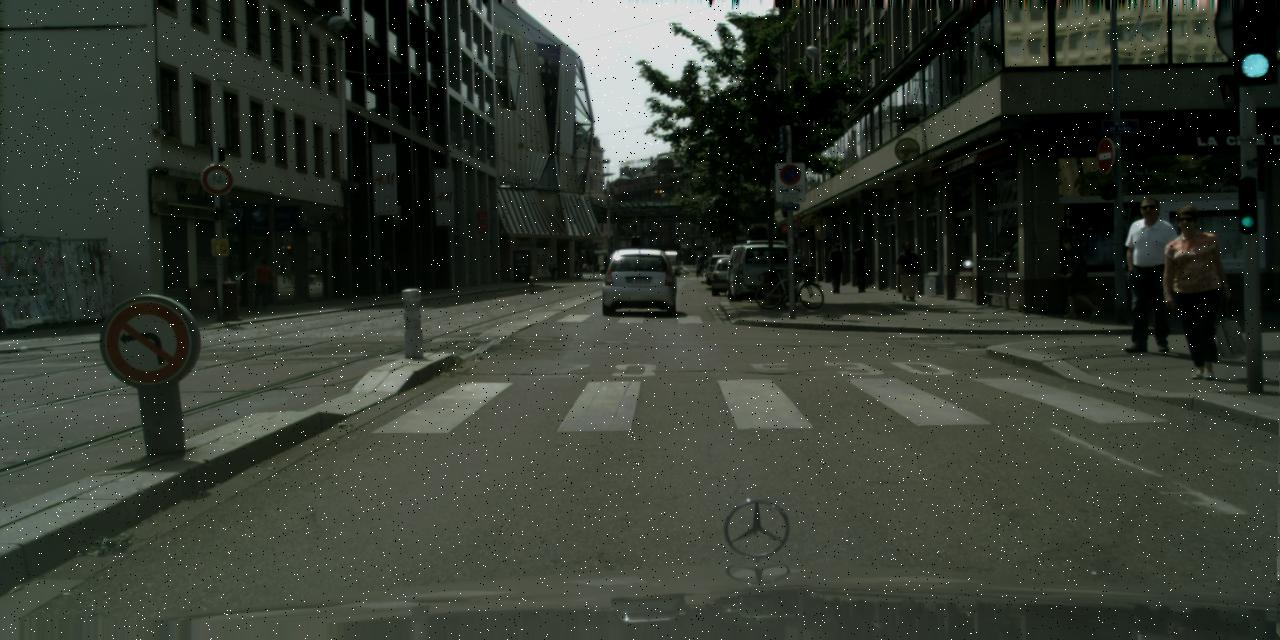ped: (1160, 205, 1231, 379), (1118, 196, 1182, 352), (1057, 235, 1091, 317), (895, 240, 919, 301), (851, 240, 872, 291), (826, 243, 847, 293), (252, 259, 272, 308), (378, 261, 392, 296), (792, 250, 806, 282), (548, 258, 556, 280), (694, 260, 702, 278), (582, 260, 592, 272), (574, 262, 580, 279), (696, 256, 704, 264), (595, 260, 597, 272)
